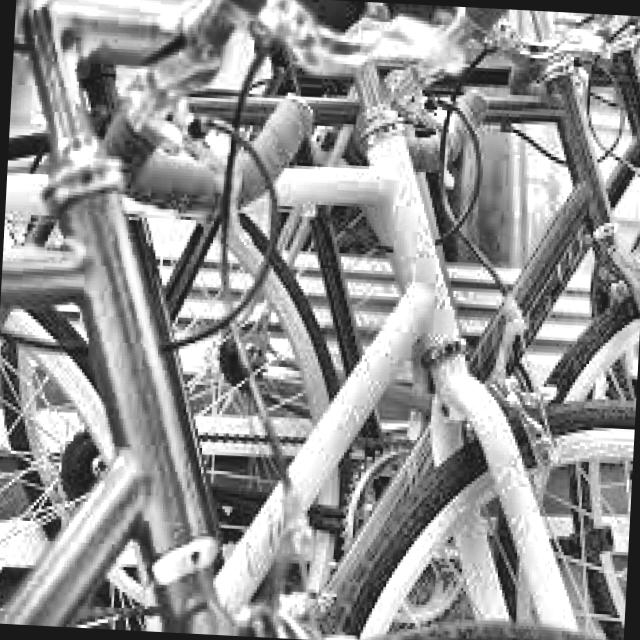bicycle: (213, 0, 577, 631), (0, 0, 276, 632), (458, 8, 640, 601)
